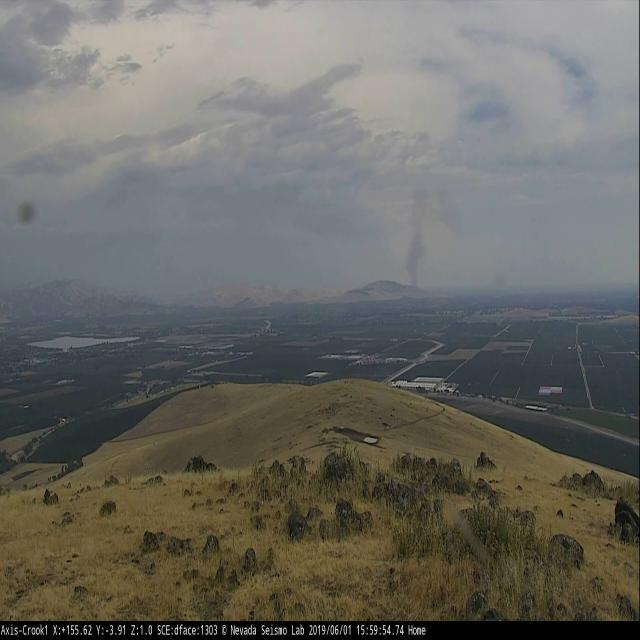smoke: (404, 182, 461, 284)
